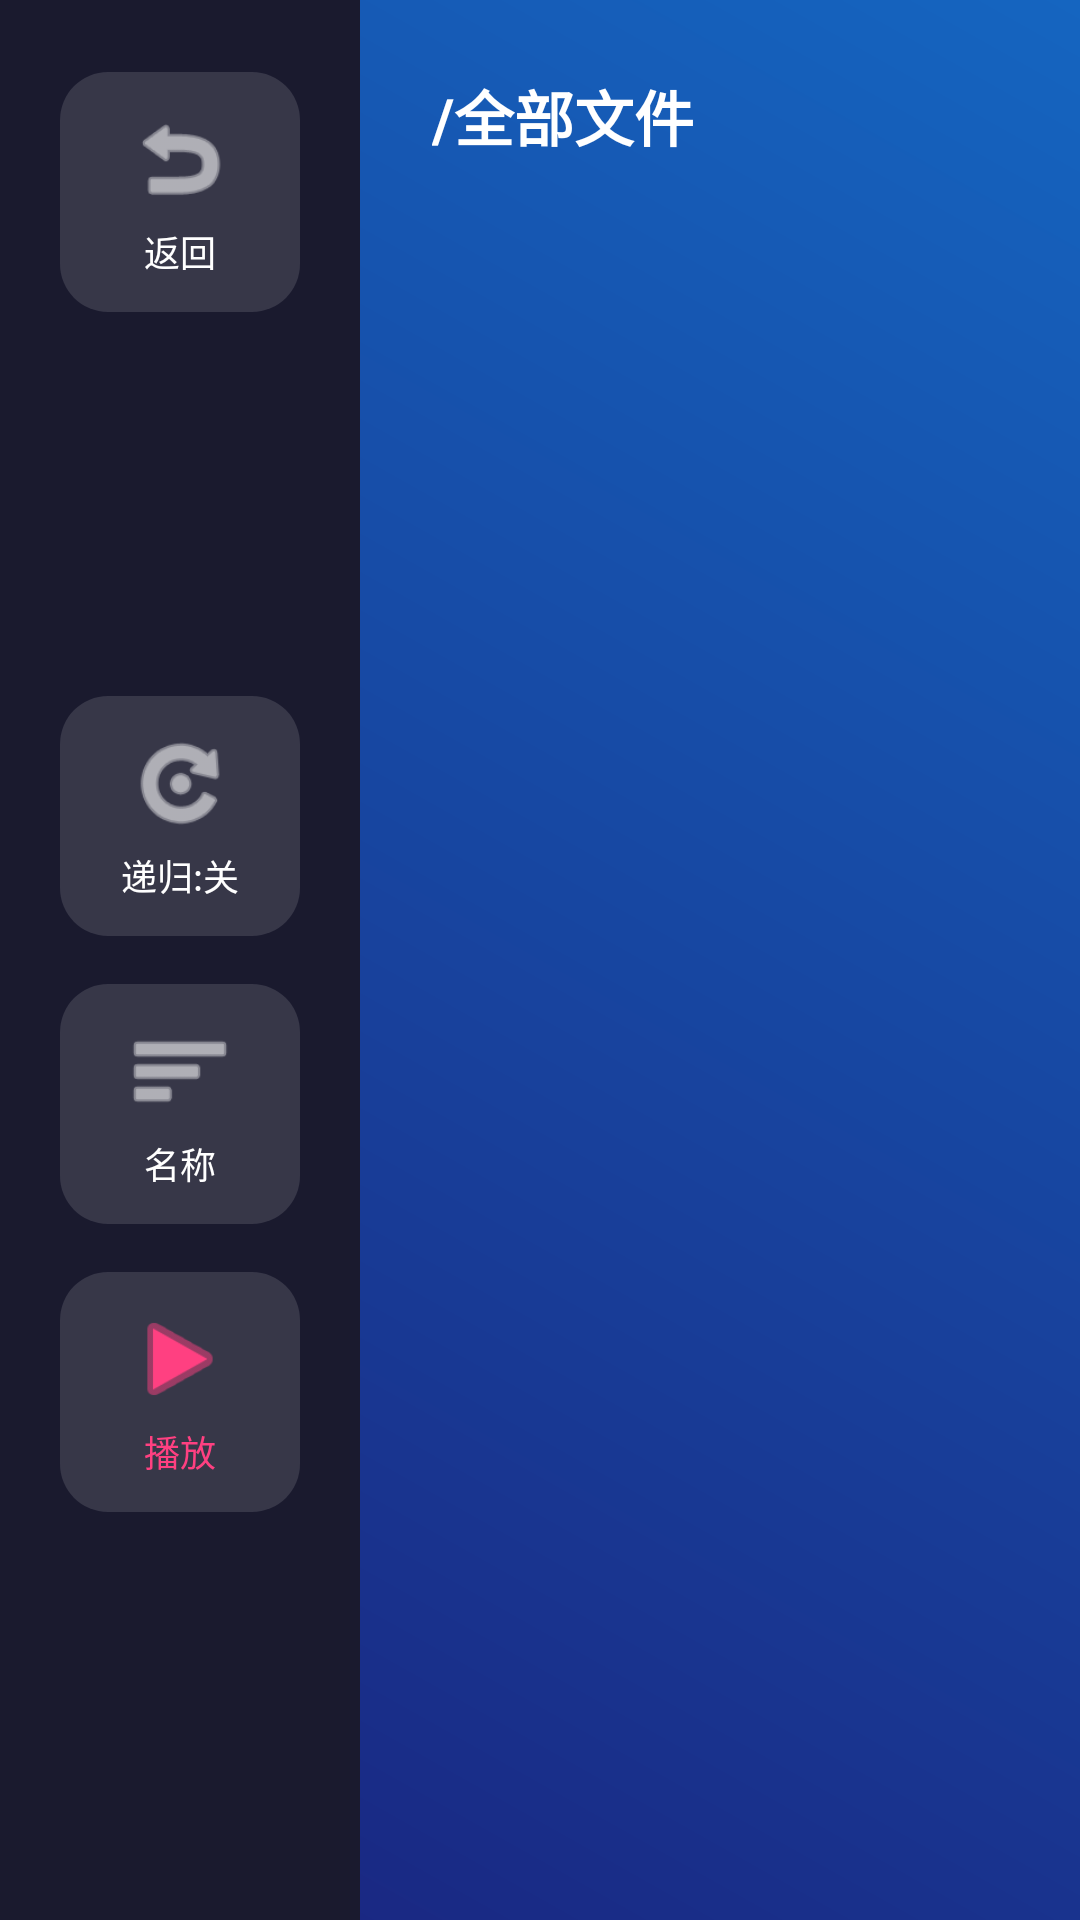

Where icons sit on this 1080 x 1920 app screen, as (x1, y1, x2, y2):
revert: (143, 125, 220, 195)
rotate: (140, 743, 219, 824)
